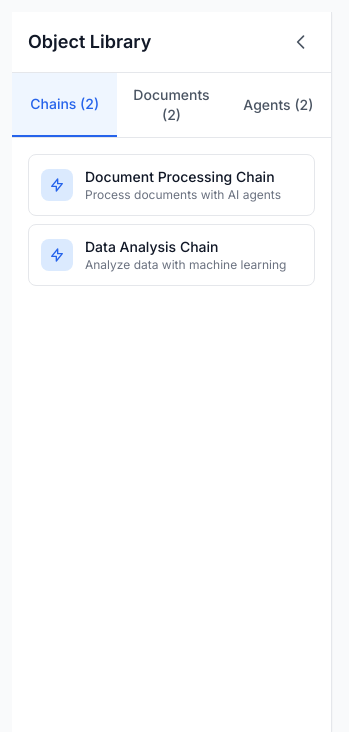
Scenario: LeftSidebar › Collapse/Expand Functionality › collapses sidebar when collapse button is clicked
Click the button named "Collapse sidebar": {"x": 301, "y": 42} [287,28,315,56]
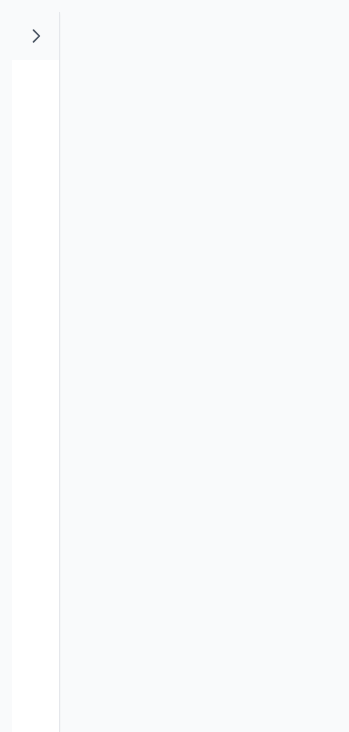
Now the element with test id "left-sidebar-collapsed" is shown, box [12,12,60,731]
